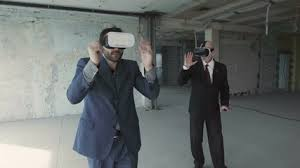oculus: (100, 31, 138, 51), (191, 45, 214, 60)
